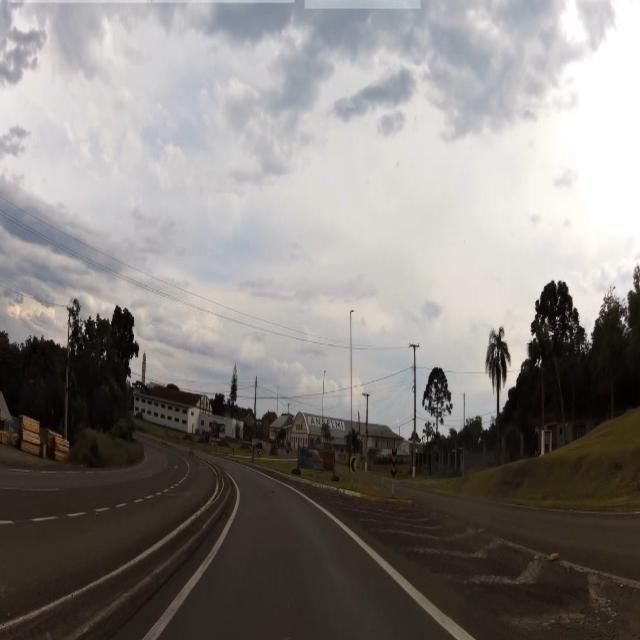Del: (351, 455, 359, 477)
MP: (391, 444, 398, 478)
